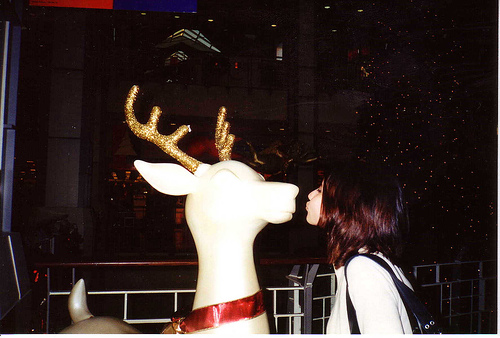without_mask: (302, 162, 392, 245)
